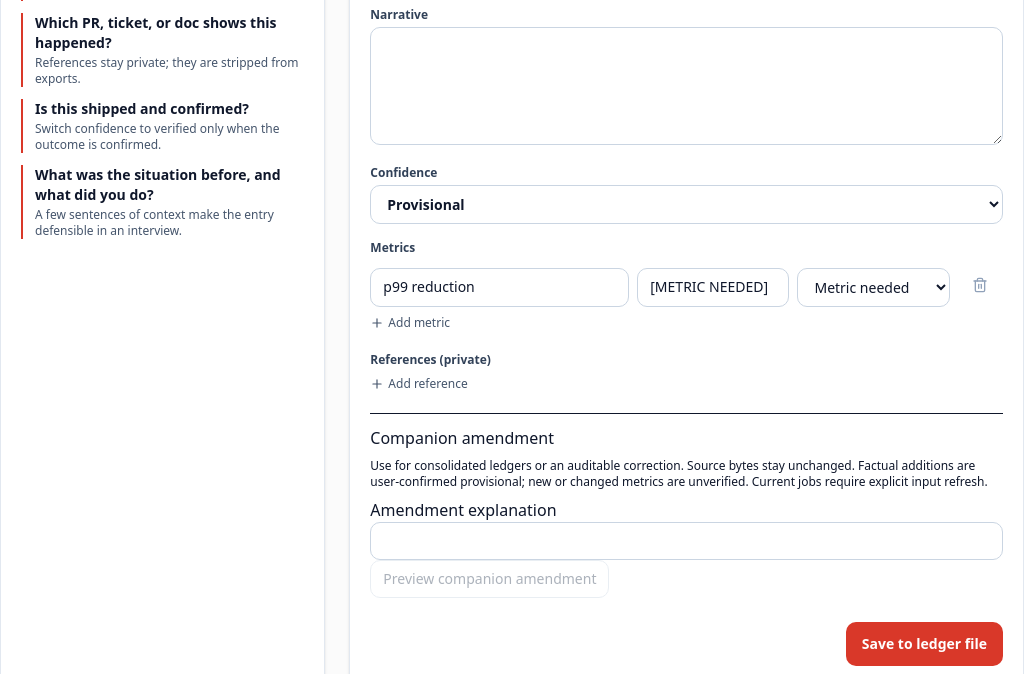
Test case: EvidenceStrengthener › explains ledger-backed entries instead of overwriting them
(page scrolled)
Click the button "Save to ledger file" at (924,644), box [846,622,1003,666]
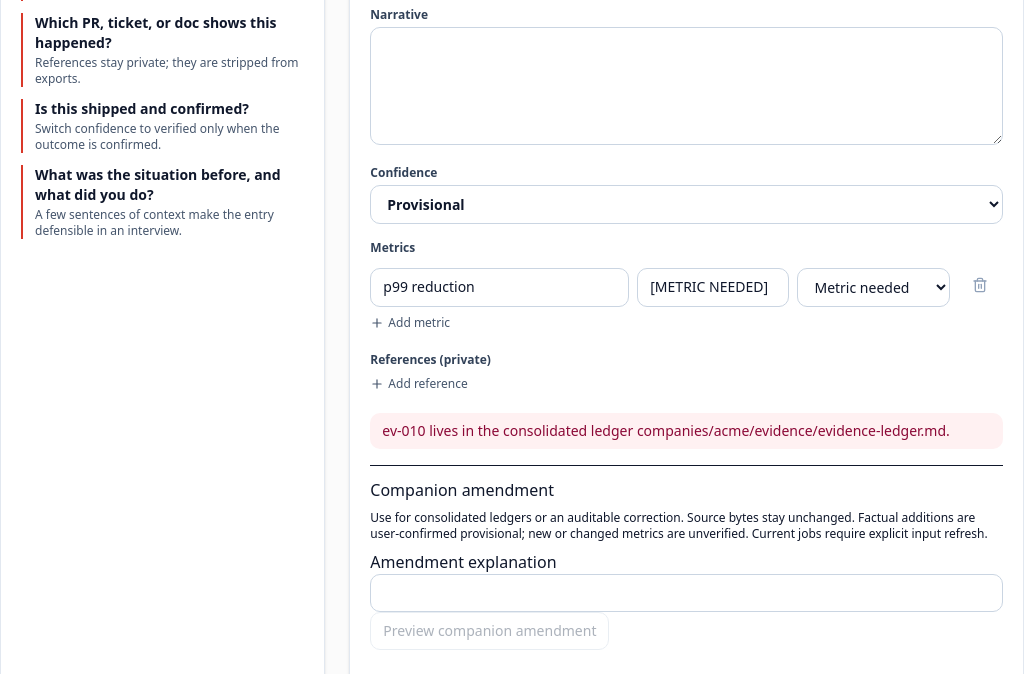
Expected: the message shows "companies/acme/evidence/evidence-ledger.md", [382,421,950,440]
